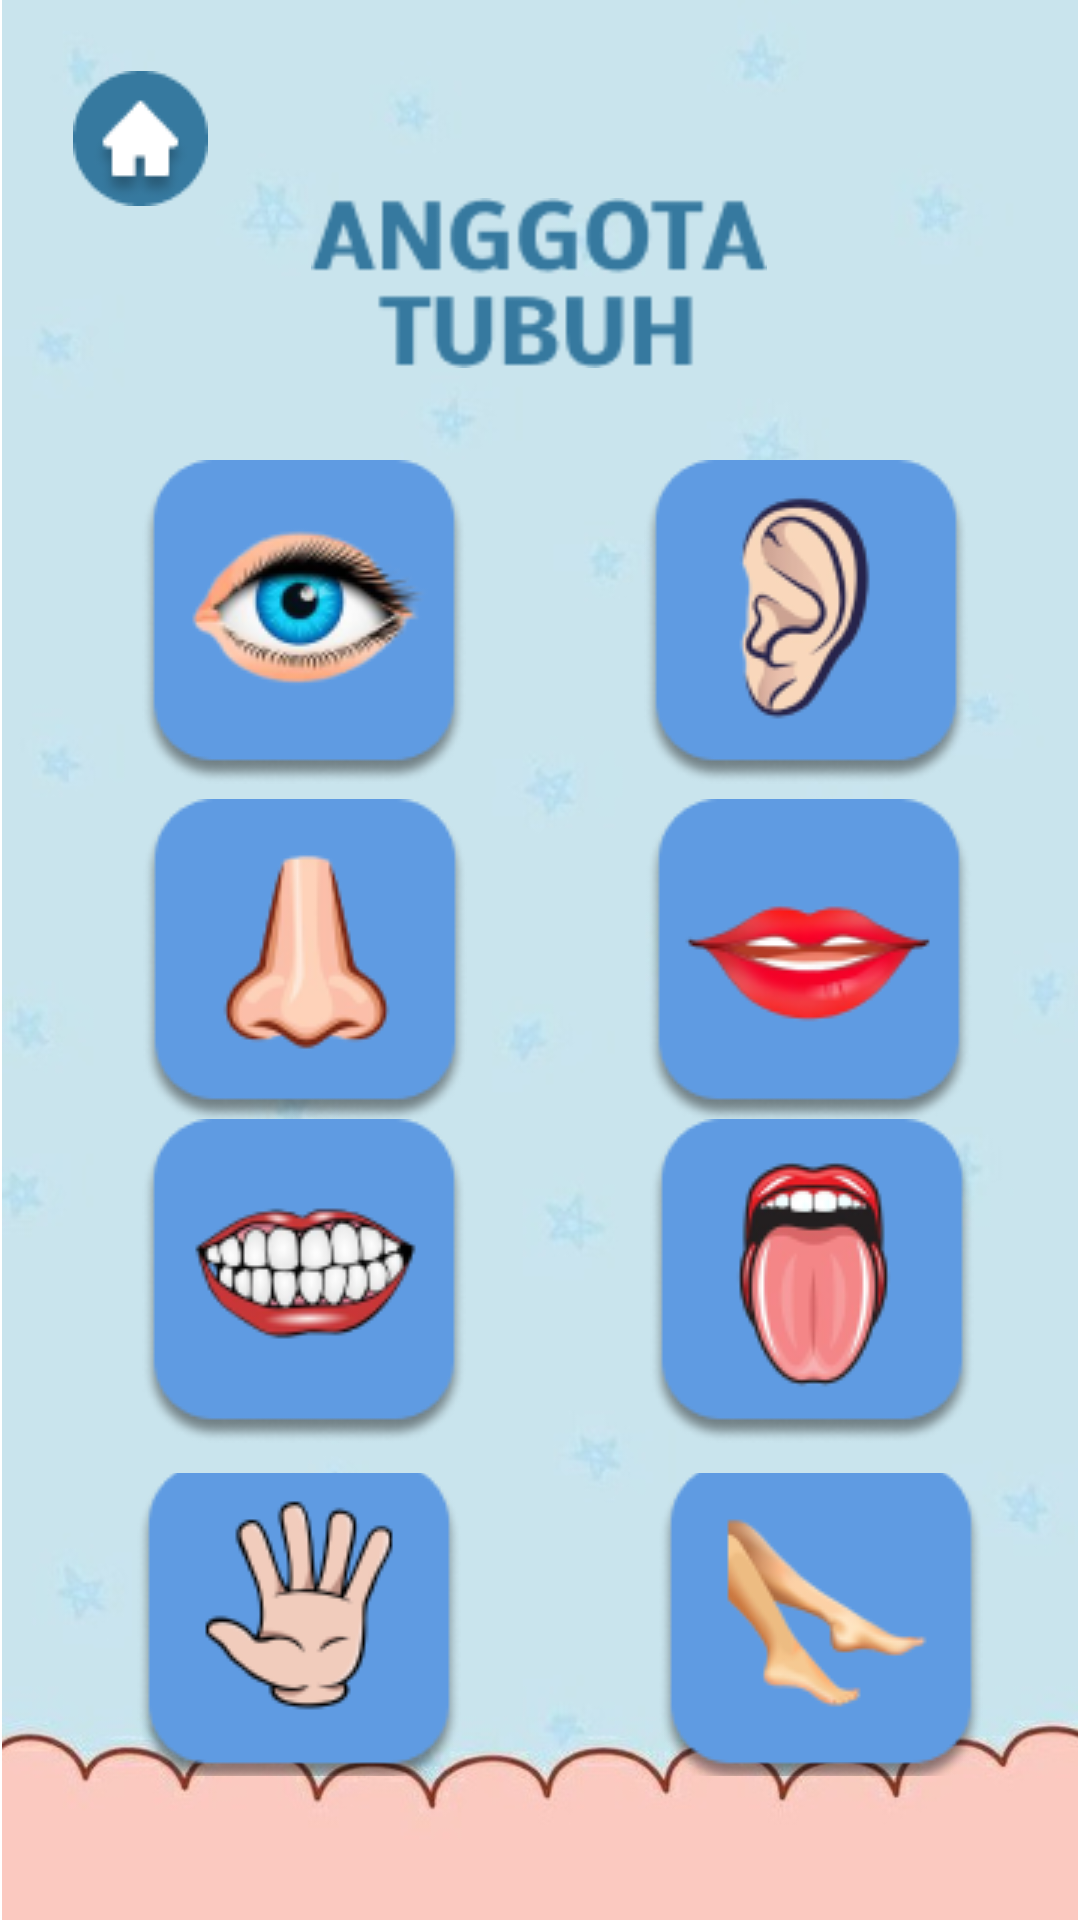

Icon click points for this 1080w x 1920h phone screenshot, format point (x, y):
bibir: point (808, 957)
gigi: point (304, 1277)
hidung: point (305, 963)
home: point (140, 138)
lidah: point (812, 1277)
mata: point (304, 618)
telinga: point (806, 618)
